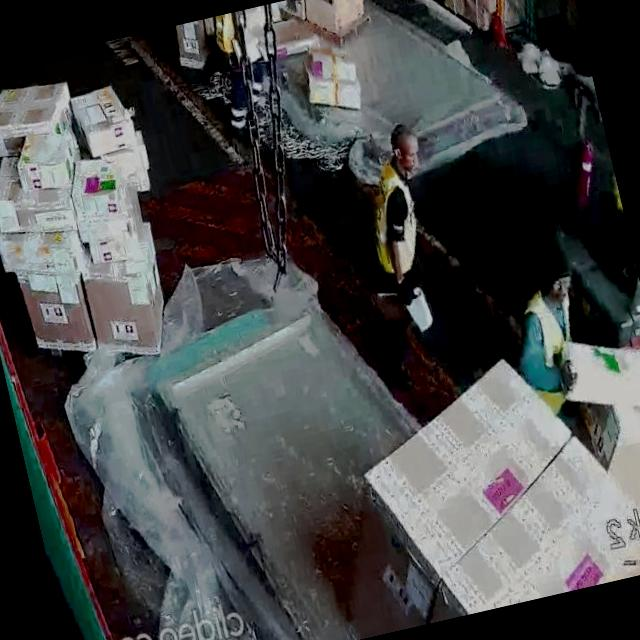Box: (78, 252, 175, 352), (20, 268, 97, 359), (0, 77, 76, 150), (64, 154, 134, 224), (74, 78, 138, 154), (298, 39, 360, 109), (0, 229, 75, 277), (0, 190, 66, 241), (18, 130, 73, 184)
